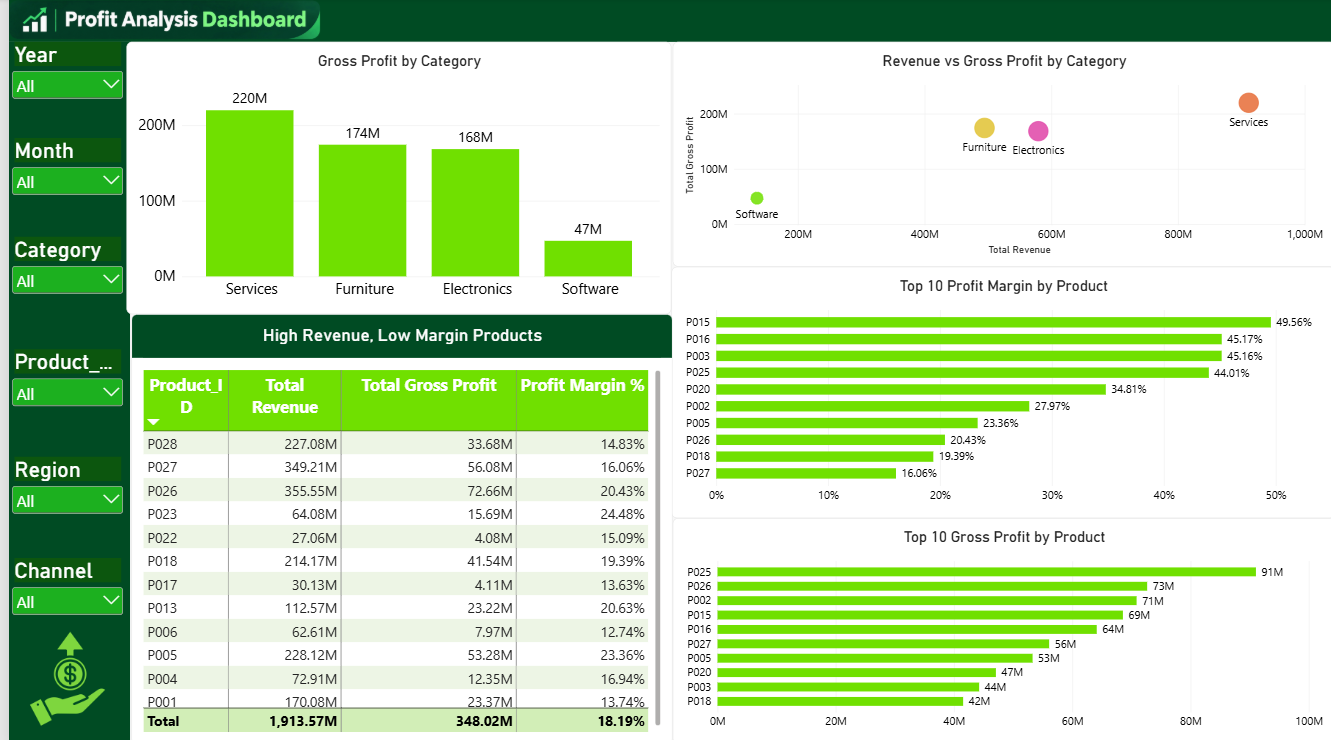

The page's visual inventory and layout, read from the dashboard file:
{"tool":"powerbi","page":{"name":"Profit Analysis","canvas":[1920,1080],"ordinal":2},"visuals":[{"type":"shape","box":[0,0,1920.1,63.3],"z":0},{"type":"shape","box":[0,63.3,175.5,1017],"z":1000},{"type":"barChart","title":"Top 10 Gross Profit  by Product","fields":{"Y":["Sales.Total Gross Profit"],"Category":["finance products.Product_ID"]},"box":[960.9,752.8,959.1,327.5],"z":2000},{"type":"barChart","title":" Top 10 Profit Margin by Product","fields":{"Y":["Sales.Profit Margin %"],"Category":["finance products.Product_ID"]},"box":[959.1,389.1,960.9,363.7],"z":3000},{"type":"scatterChart","title":"Revenue vs Gross Profit by Category","fields":{"X":["Sales.Total Revenue"],"Y":["Sales.Total Gross Profit"],"Size":["Sales.Total Quantity"],"Category":["finance products.Category"]},"box":[960.9,63.3,959.1,325.7],"z":4000},{"type":"columnChart","title":" Gross Profit by Category","fields":{"Category":["finance products.Category"],"Y":["Sales.Total Gross Profit"]},"box":[170.1,63.3,789,394.5],"z":5000},{"type":"tableEx","title":"High Revenue, Low Margin Products","fields":{"Values":["finance products.Product_ID","Sales.Total Revenue","Sales.Total Gross Profit","Sales.Profit Margin %"]},"box":[177.3,457.8,783.6,622.5],"z":6000},{"type":"image","box":[0,0,450.6,63.3],"z":7000},{"type":"slicer","fields":{"Values":["Calendar.Month"]},"box":[0,202.7,170.1,88.7],"z":8000},{"type":"slicer","fields":{"Values":["Calendar.Year"]},"box":[0,63.3,170.1,88.7],"z":9000},{"type":"slicer","fields":{"Values":["finance products.Category"]},"box":[0,345.6,170.1,88.7],"z":10000},{"type":"slicer","fields":{"Values":["finance products.Product_ID"]},"box":[0,508.5,170.1,88.7],"z":11000},{"type":"slicer","fields":{"Values":["finance regions.Region"]},"box":[0,664.1,170.1,88.7],"z":12000},{"type":"slicer","fields":{"Values":["finance sales.Channel"]},"box":[0,810.7,170.1,88.7],"z":13000},{"type":"image","box":[0,917.5,170.1,135.7],"z":14000}]}

Visuals, with their boxes in screenshot pixels (x1, y1, x2, y2), scaled from the page's 1920x1080 canvas onto the 1331x740 screenshot:
shape: 0,0,1330,43
shape: 0,43,122,739
"Top 10 Gross Profit  by Product" barChart: 666,516,1330,739
" Top 10 Profit Margin by Product" barChart: 665,267,1330,516
"Revenue vs Gross Profit by Category" scatterChart: 666,43,1330,267
" Gross Profit by Category" columnChart: 118,43,665,314
"High Revenue, Low Margin Products" tableEx: 123,314,666,739
image: 0,0,312,43
slicer - Calendar.Month: 0,139,118,200
slicer - Calendar.Year: 0,43,118,104
slicer - finance products.Category: 0,237,118,298
slicer - finance products.Product_ID: 0,348,118,409
slicer - finance regions.Region: 0,455,118,516
slicer - finance sales.Channel: 0,555,118,616
image: 0,629,118,722
